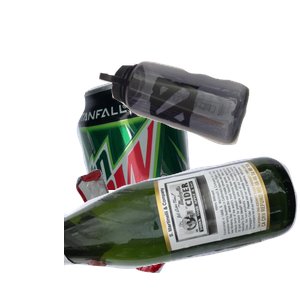glass: (64, 154, 300, 300)
metal: (74, 74, 257, 254)
plastic: (97, 59, 300, 197)
trash: (74, 167, 235, 300)
